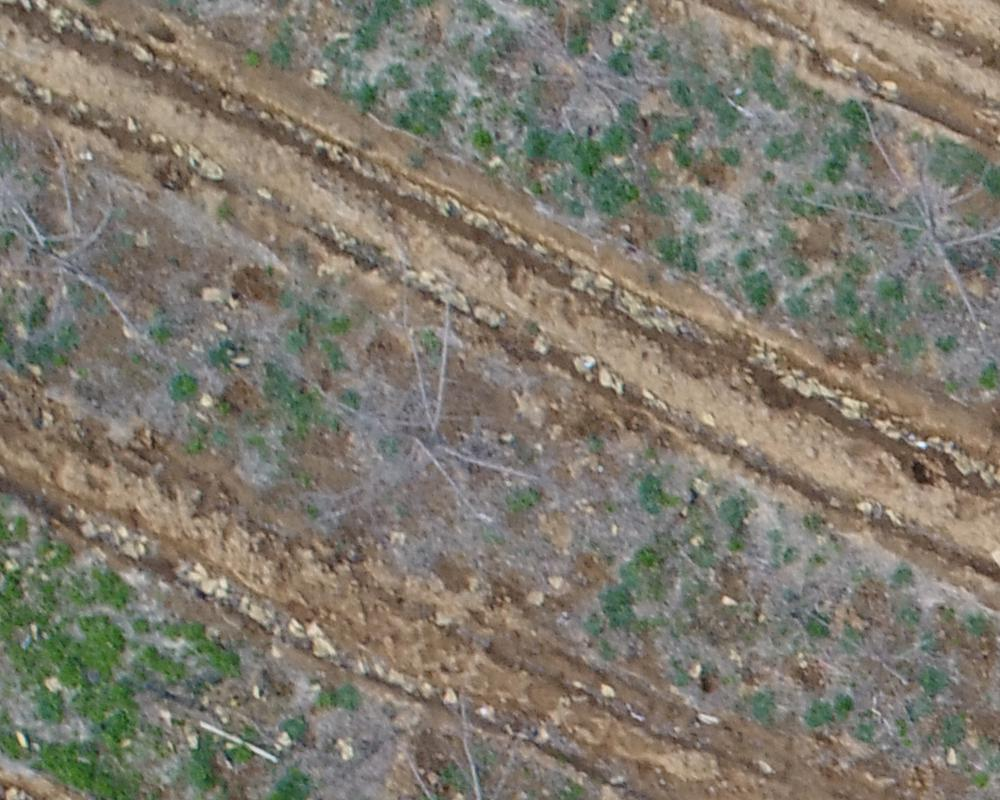apple: (305, 290, 537, 549), (793, 120, 990, 332), (10, 107, 163, 357), (363, 685, 575, 790)
